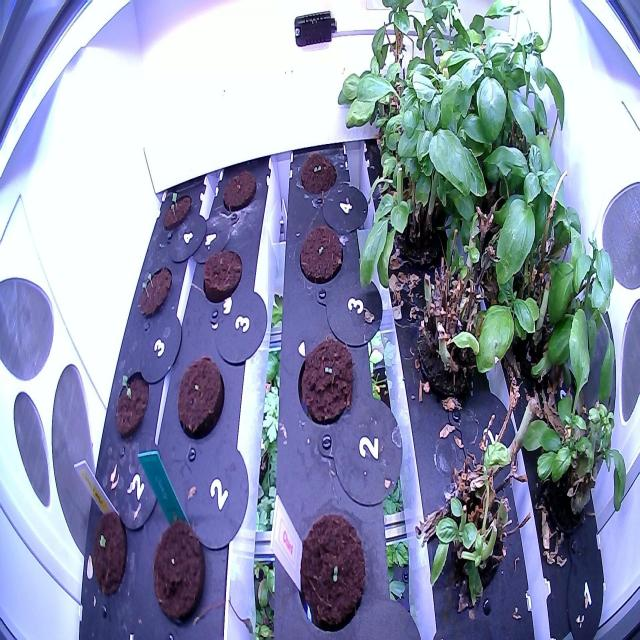germination: (291, 504, 370, 631), (294, 332, 357, 427), (88, 498, 130, 602), (297, 220, 345, 288), (112, 365, 151, 444), (134, 262, 174, 320), (299, 148, 338, 198), (160, 186, 195, 238)
pod: (150, 518, 208, 630), (174, 348, 226, 447), (200, 244, 244, 310), (220, 167, 258, 218)
